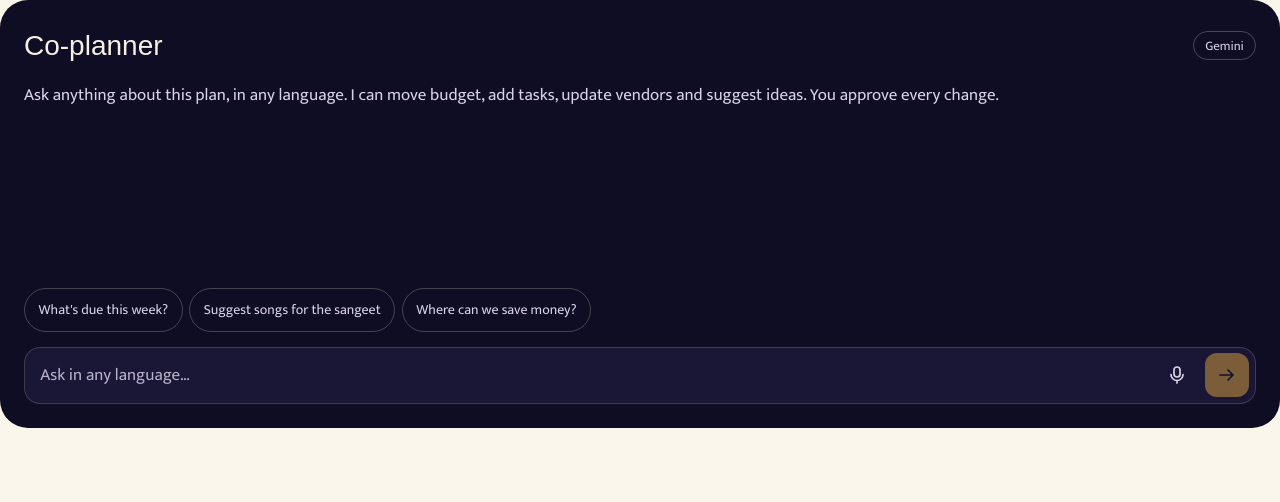
CoPlanner › explains failures instead of failing silently
The image size is (1280, 502).
Type "hi" into the field named "Message the co-planner". click: point(590, 375)
box: 31,353 -> 1149,397
Then press Enter
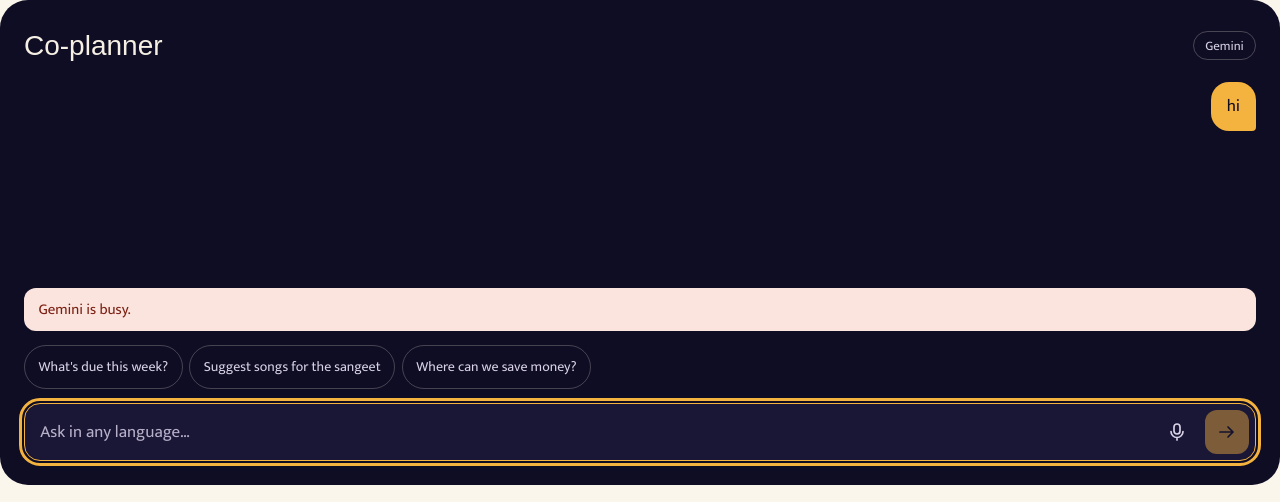
Now the message reads "Gemini is busy.", box 38,297 -> 131,322
